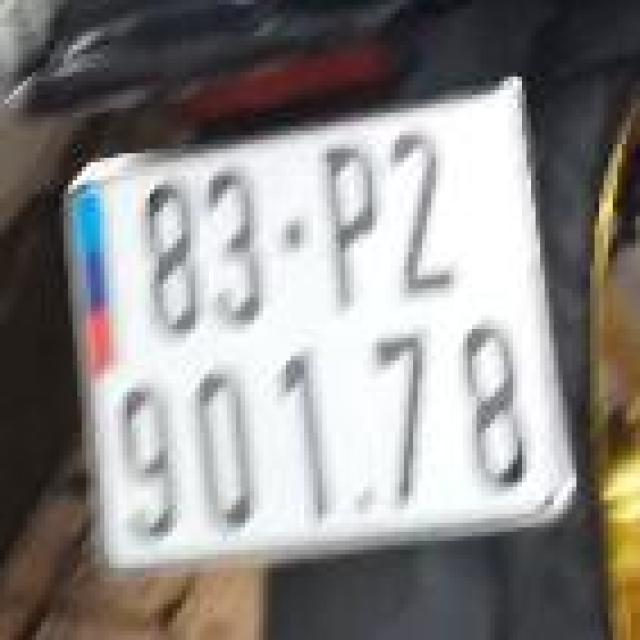0: (193, 354, 261, 534)
1: (268, 340, 345, 525)
2: (384, 120, 456, 296)
3: (202, 162, 275, 347)
7: (361, 324, 438, 514)
8: (456, 309, 529, 498), (134, 176, 202, 347)
9: (109, 372, 181, 548)
P: (309, 133, 381, 309)
